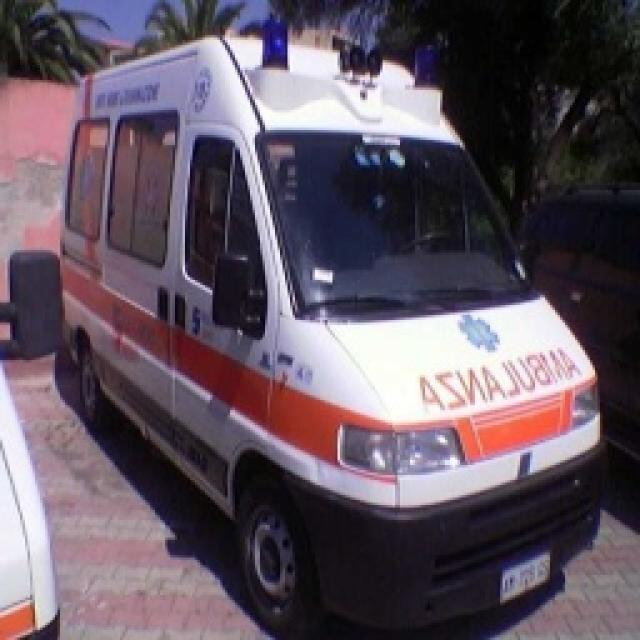emergency-vehicle: (61, 31, 602, 640)
